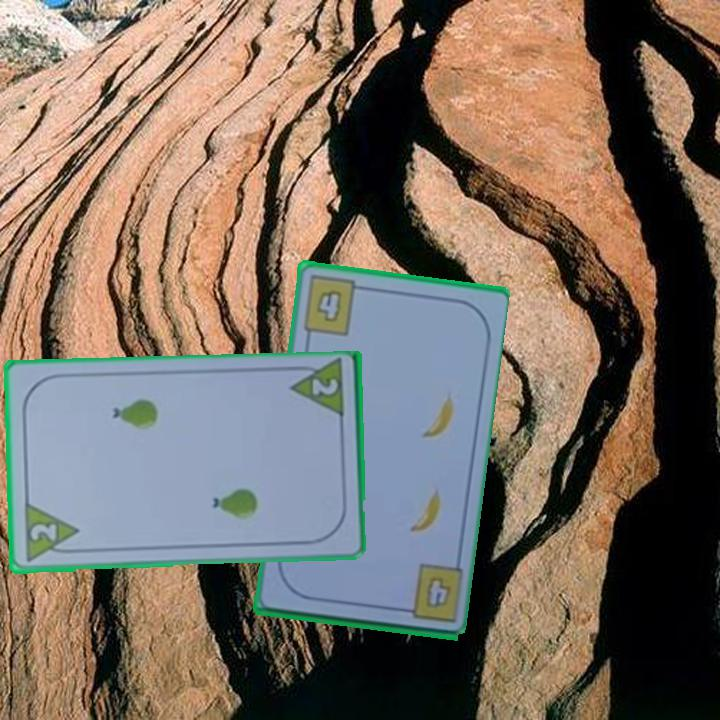2p: (27, 520, 60, 545), (308, 375, 341, 398)
4b: (299, 272, 368, 338), (421, 572, 454, 611)
